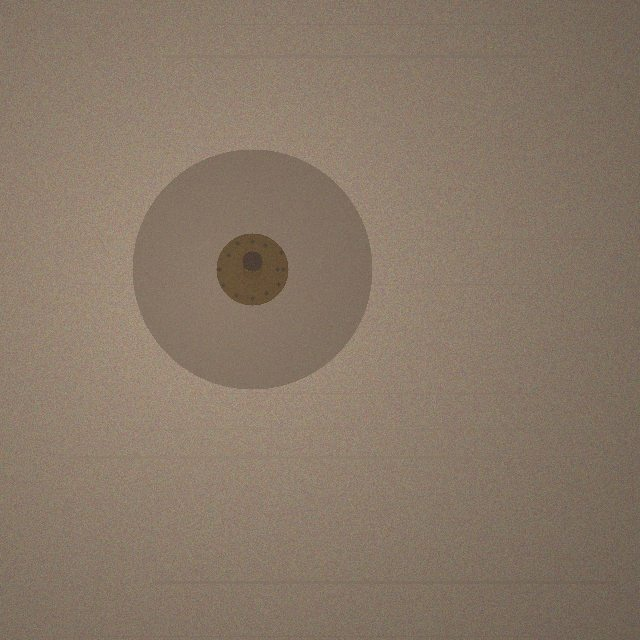cold_weld: (132, 149, 372, 389)
